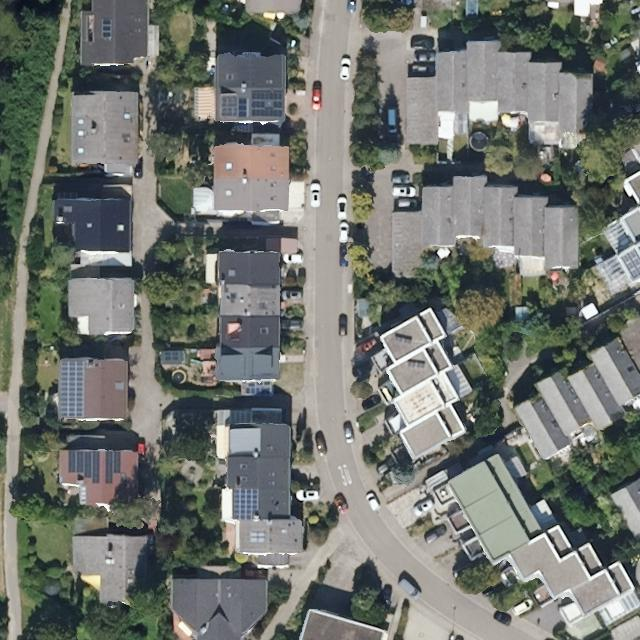PV: (55, 357, 87, 423), (65, 448, 101, 488), (229, 487, 261, 523), (250, 88, 284, 120), (103, 447, 122, 488), (220, 94, 239, 119), (238, 96, 249, 119)
